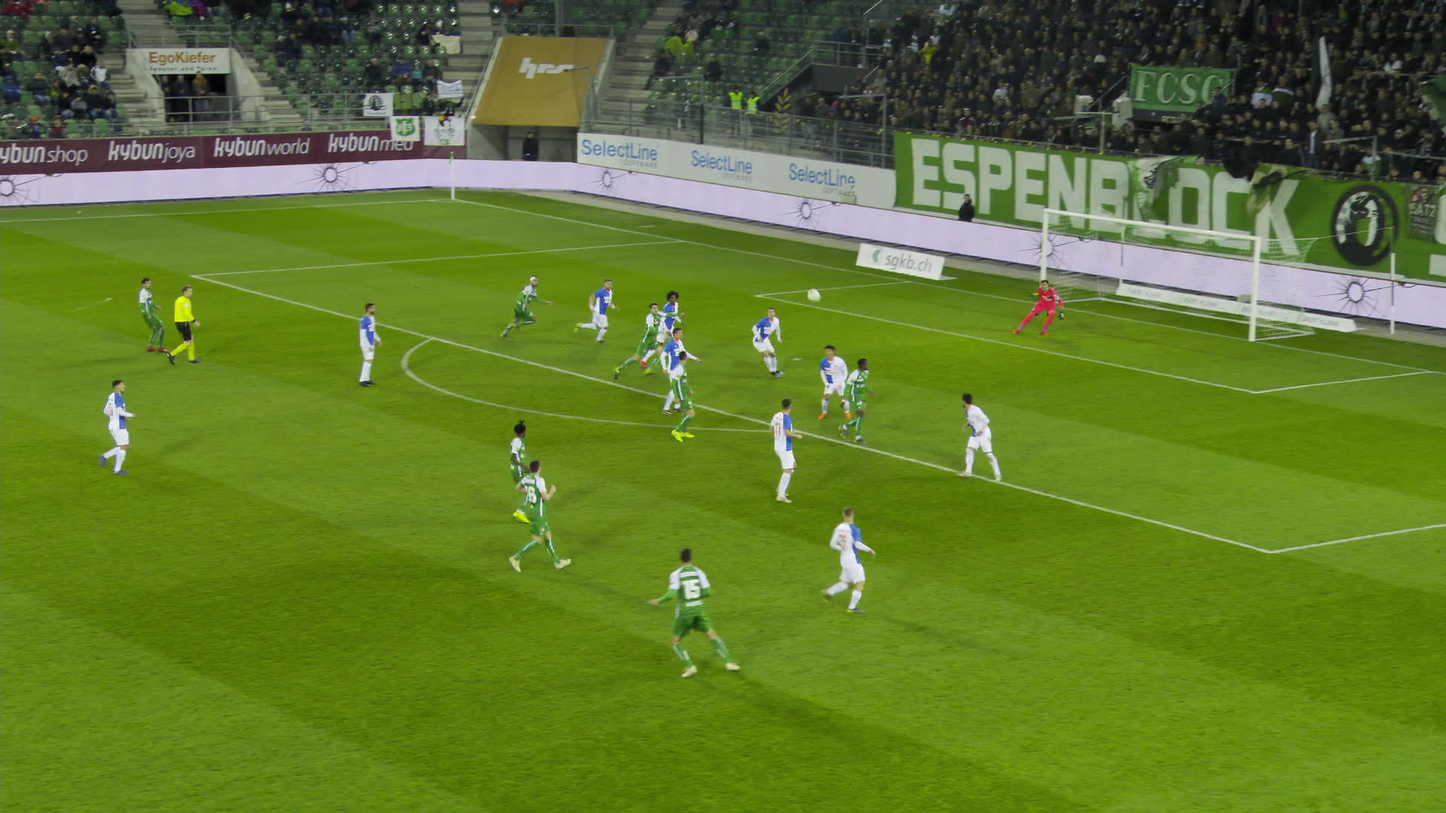ball: (807, 288, 820, 303)
player: (655, 547, 740, 674), (811, 504, 868, 611), (612, 304, 681, 382), (516, 458, 561, 571), (761, 399, 806, 498), (957, 393, 1008, 480), (494, 273, 550, 342), (809, 338, 853, 425), (96, 379, 135, 471), (654, 325, 695, 411), (511, 420, 542, 522), (844, 355, 879, 442), (572, 278, 617, 344), (1014, 278, 1067, 333), (748, 302, 784, 382), (670, 352, 700, 442), (139, 278, 172, 355), (651, 291, 685, 364), (362, 303, 384, 385)
referee: (166, 283, 207, 363)
